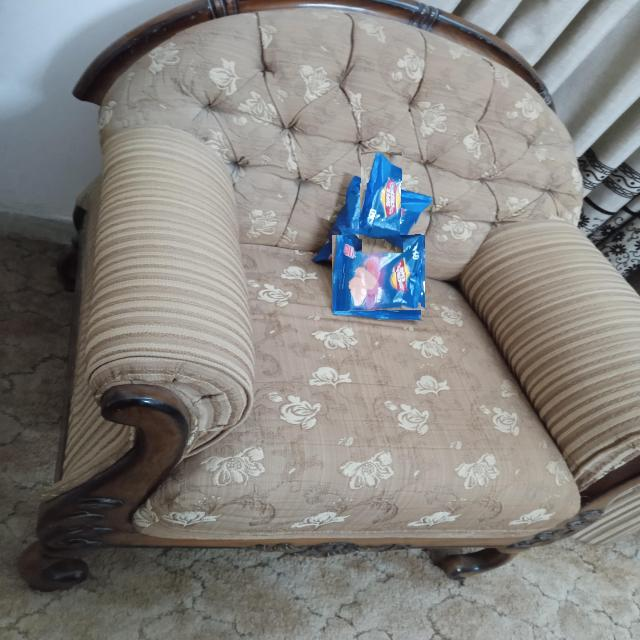Plastic: (336, 230, 421, 316), (346, 166, 417, 239)
